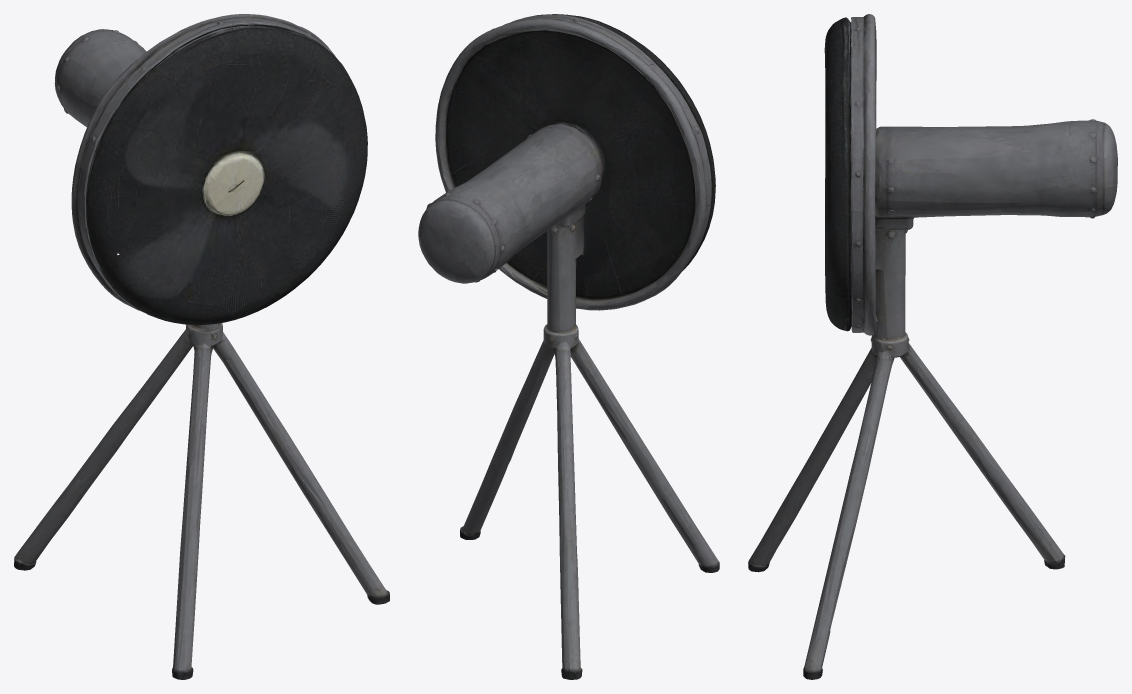
File: w3hpedfan.glb
3 renders of one model, left to right at view 1: azimuth 30°, elevation 25°; view 2: azimuth 150°, elevation 25°; view 3: azimuth 270°, elevation 25°, orthographic. The views are drawn at different scales.
Parts seen in each view (by area): view 1: output_unwrapped; view 2: output_unwrapped; view 3: output_unwrapped.
Boxes of the visible parts, bbox=[...] form: output_unwrapped: bbox=[14, 14, 389, 679]; output_unwrapped: bbox=[418, 14, 719, 679]; output_unwrapped: bbox=[748, 14, 1117, 679].
Bounding box in the file's own units: 0.7817 × 1.55 × 0.8915.
1 material, 1 textured.
